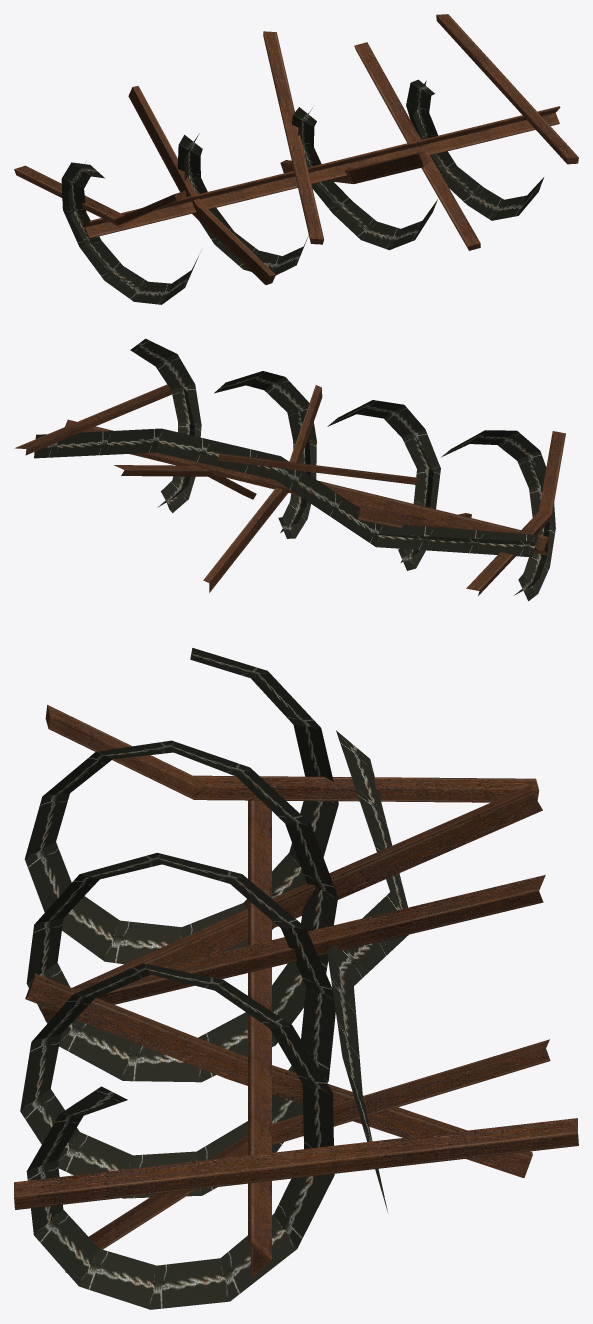
The model's file is caen_barbedwire_8.glb.
The picture shows the model from 3 angles, top to bottom: view 1: azimuth 30°, elevation 25°; view 2: azimuth 150°, elevation 25°; view 3: azimuth 270°, elevation 25°; orthographic projection. The views are drawn at different scales.
Bounding box in the file's own units: 109 × 32.93 × 55.08.
Materials: 1 (1 with a texture image).
